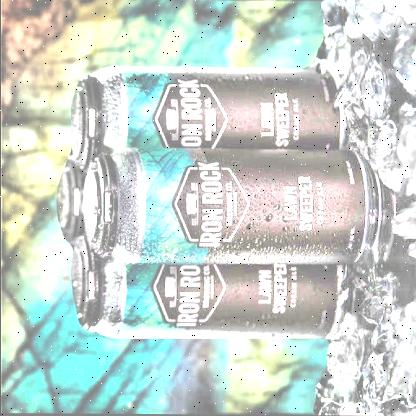Can: (79, 148, 381, 268), (68, 234, 346, 340), (67, 63, 349, 167)
